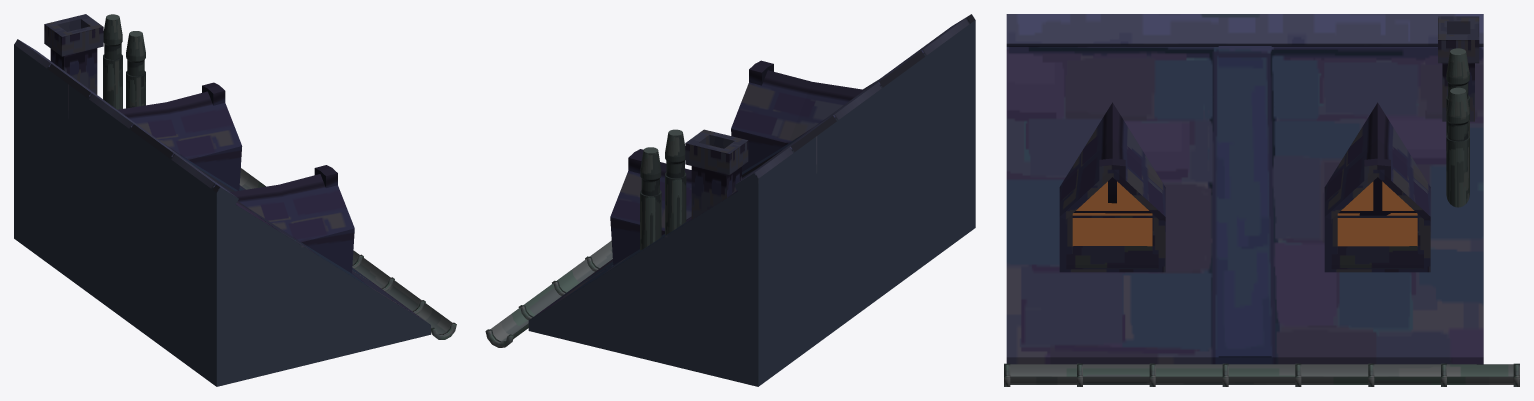
The model's file is Batiment1_toit.fbx.
The picture shows the model from 3 angles, left to right: view 1: azimuth 30°, elevation 25°; view 2: azimuth 150°, elevation 25°; view 3: azimuth 270°, elevation 25°; orthographic projection. The views are drawn at different scales.
Parts seen in each view (by area): view 1: Cylinder.001; view 2: Cylinder.001; view 3: Cylinder.001.
Part boxes in pixels (x1=…): Cylinder.001: x1=14, y1=14, x2=456, y2=386; Cylinder.001: x1=485, y1=14, x2=975, y2=386; Cylinder.001: x1=1004, y1=14, x2=1519, y2=386.
Size of the model in its own units: 463 by 401 by 734.
